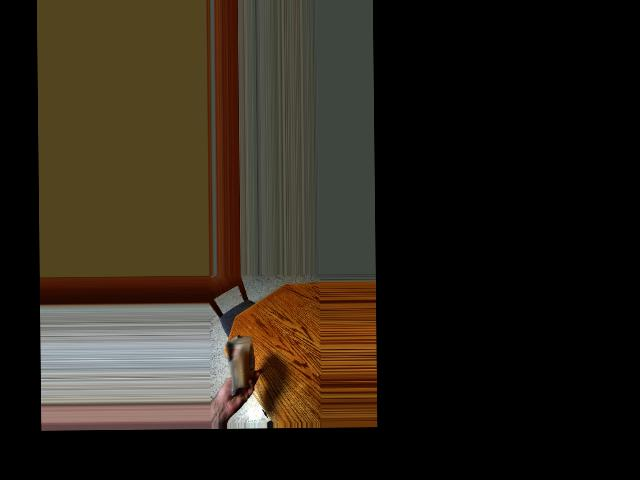cheese: (222, 337, 261, 390)
